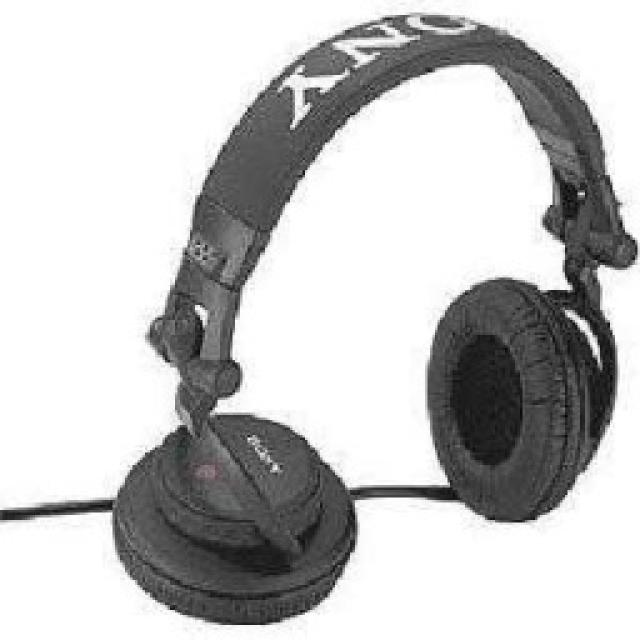kulaklik: (0, 5, 640, 627)
